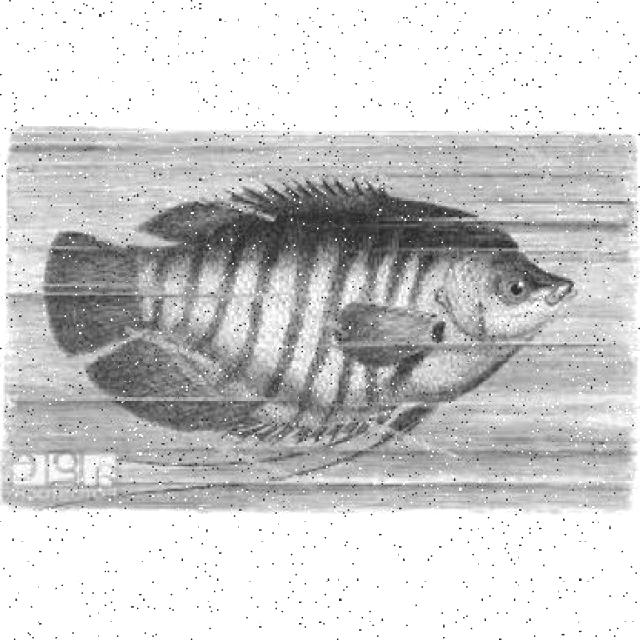gurame: (49, 179, 576, 430)
